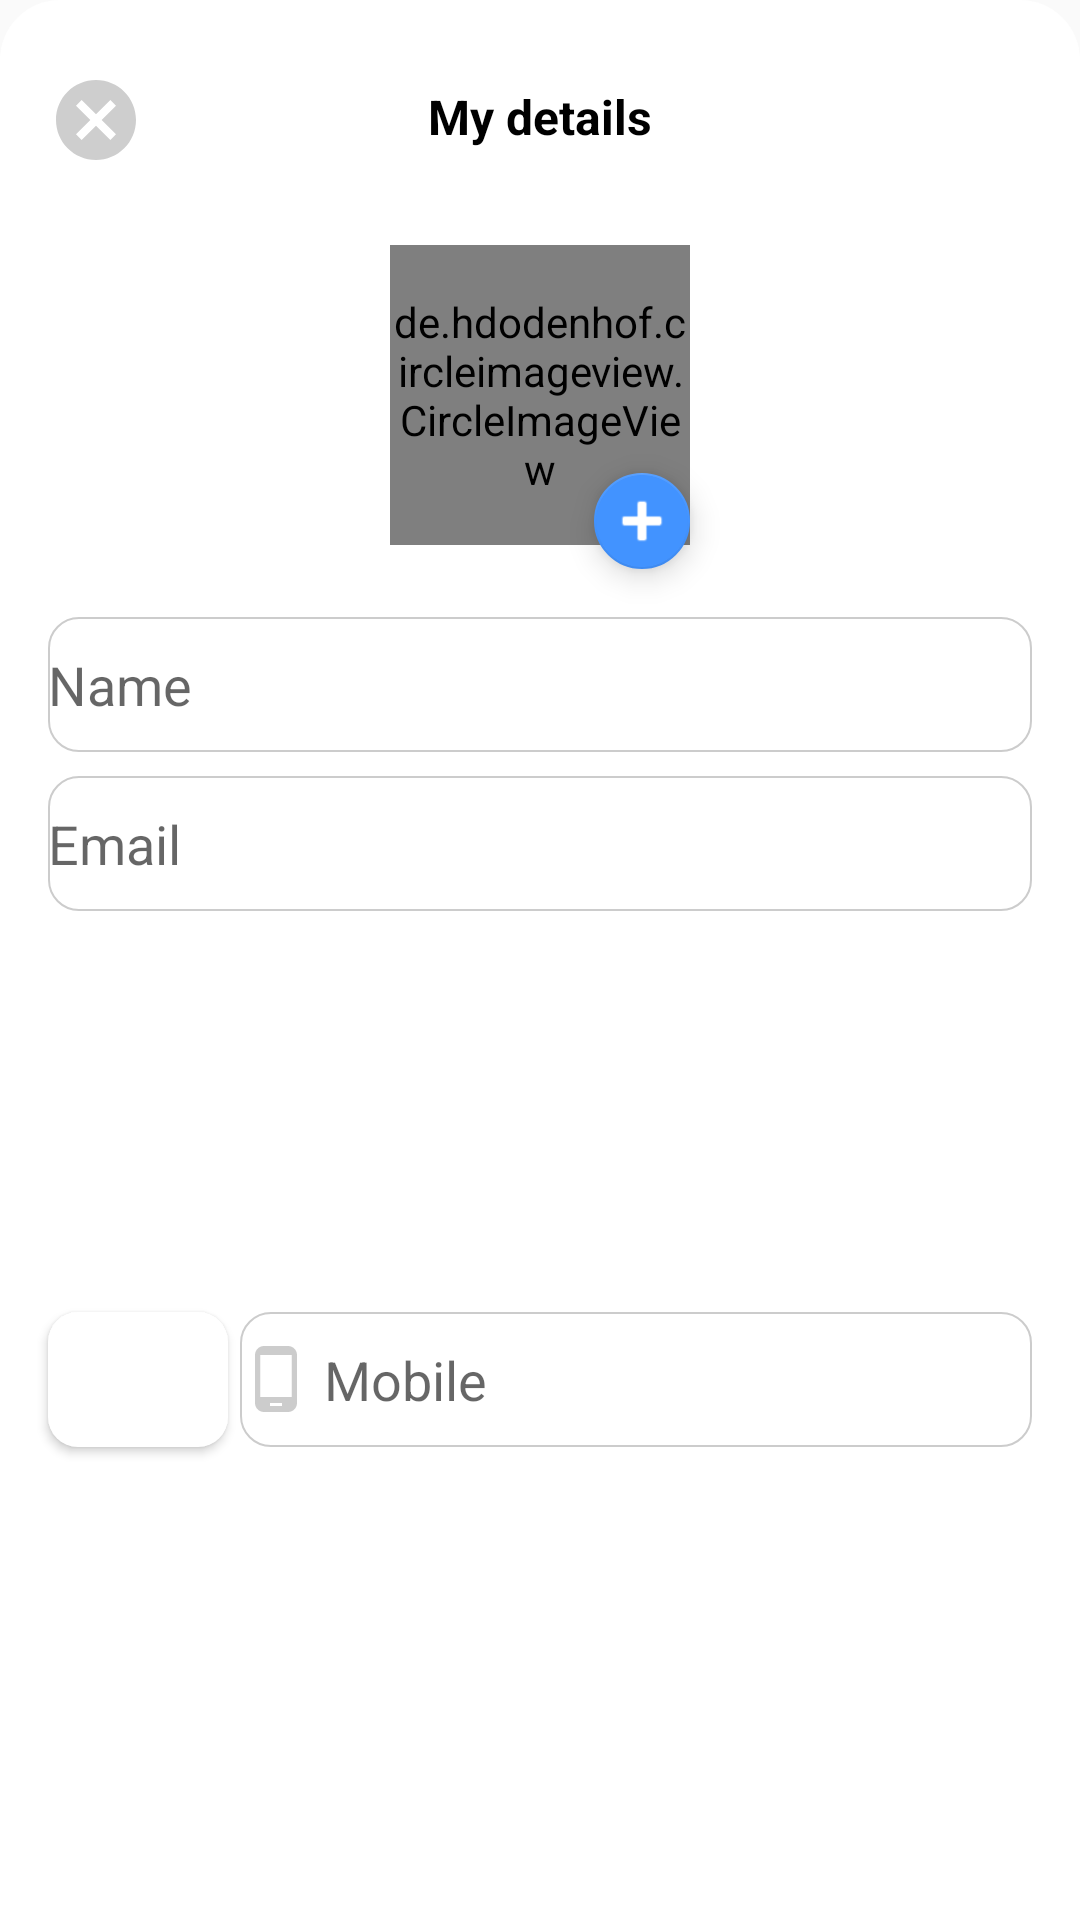

Point at icon controls on the screen. Image size 1080×1920, points as (x,y).
close: (96,120)
